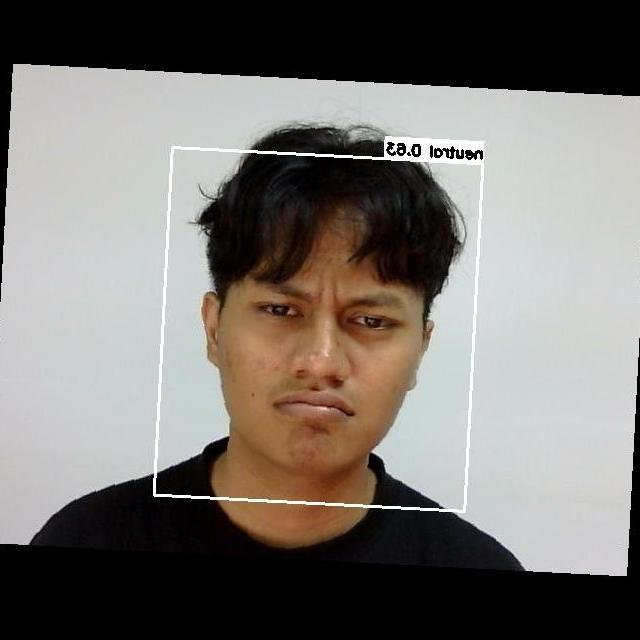Sad: (215, 242, 419, 449)
